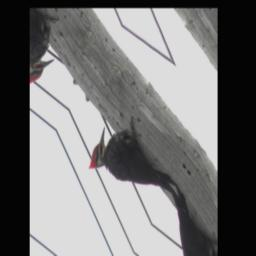Woodpecker: (81, 99, 181, 241)
